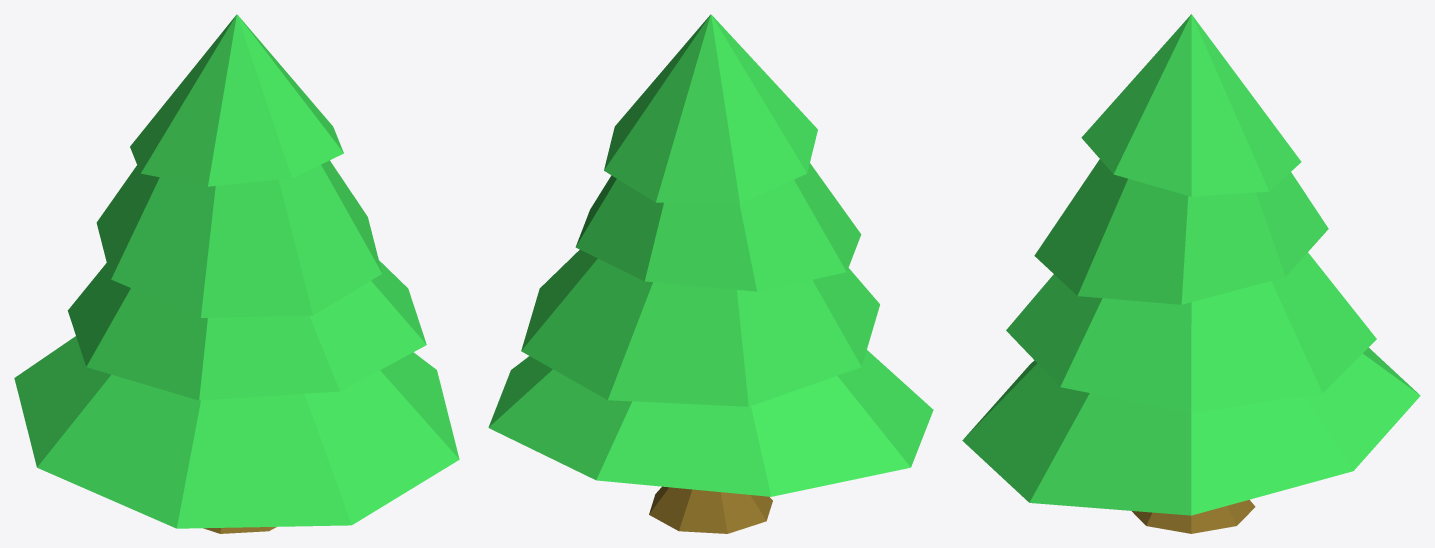
Rendered from Tree3.fbx.
The picture shows the model from 3 angles, left to right: view 1: azimuth 30°, elevation 25°; view 2: azimuth 150°, elevation 25°; view 3: azimuth 270°, elevation 25°; orthographic projection.
Visible parts, largest first — view 1: Cone.001; view 2: Cone.001; view 3: Cone.001.
Part boxes in pixels (bbox=[...]): Cone.001: bbox=[14, 14, 459, 533]; Cone.001: bbox=[488, 14, 933, 533]; Cone.001: bbox=[962, 14, 1420, 533].
Bounding box in the file's own units: 7219 × 8514 × 7177.
